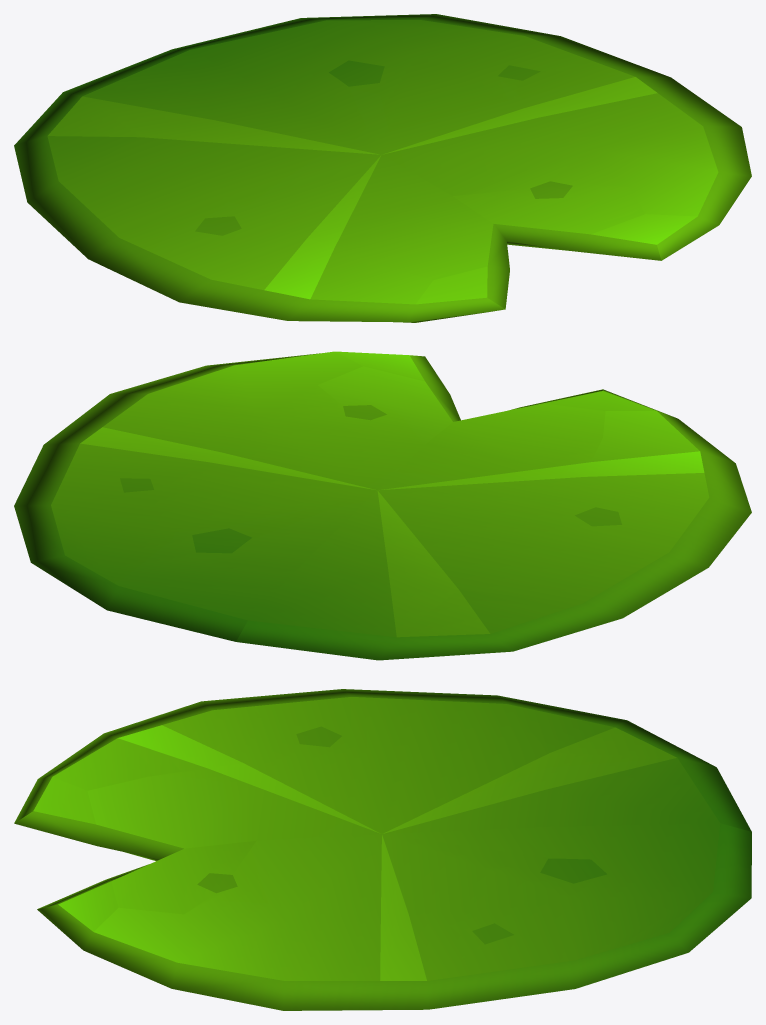
The model's file is waterlily_pink2.glb.
3 renders of one model, top to bottom at view 1: azimuth 30°, elevation 25°; view 2: azimuth 150°, elevation 25°; view 3: azimuth 270°, elevation 25°, orthographic. The views are drawn at different scales.
Parts seen in each view (by area): view 1: waterlily_pink2; view 2: waterlily_pink2; view 3: waterlily_pink2.
Boxes of the visible parts, x1,y1,x2,y2 form: waterlily_pink2: (14, 14, 751, 322); waterlily_pink2: (14, 351, 751, 660); waterlily_pink2: (14, 689, 751, 1010).
Size of the model in its own units: 0.8043 by 0.0358 by 0.7791.
1 material, 1 textured.
